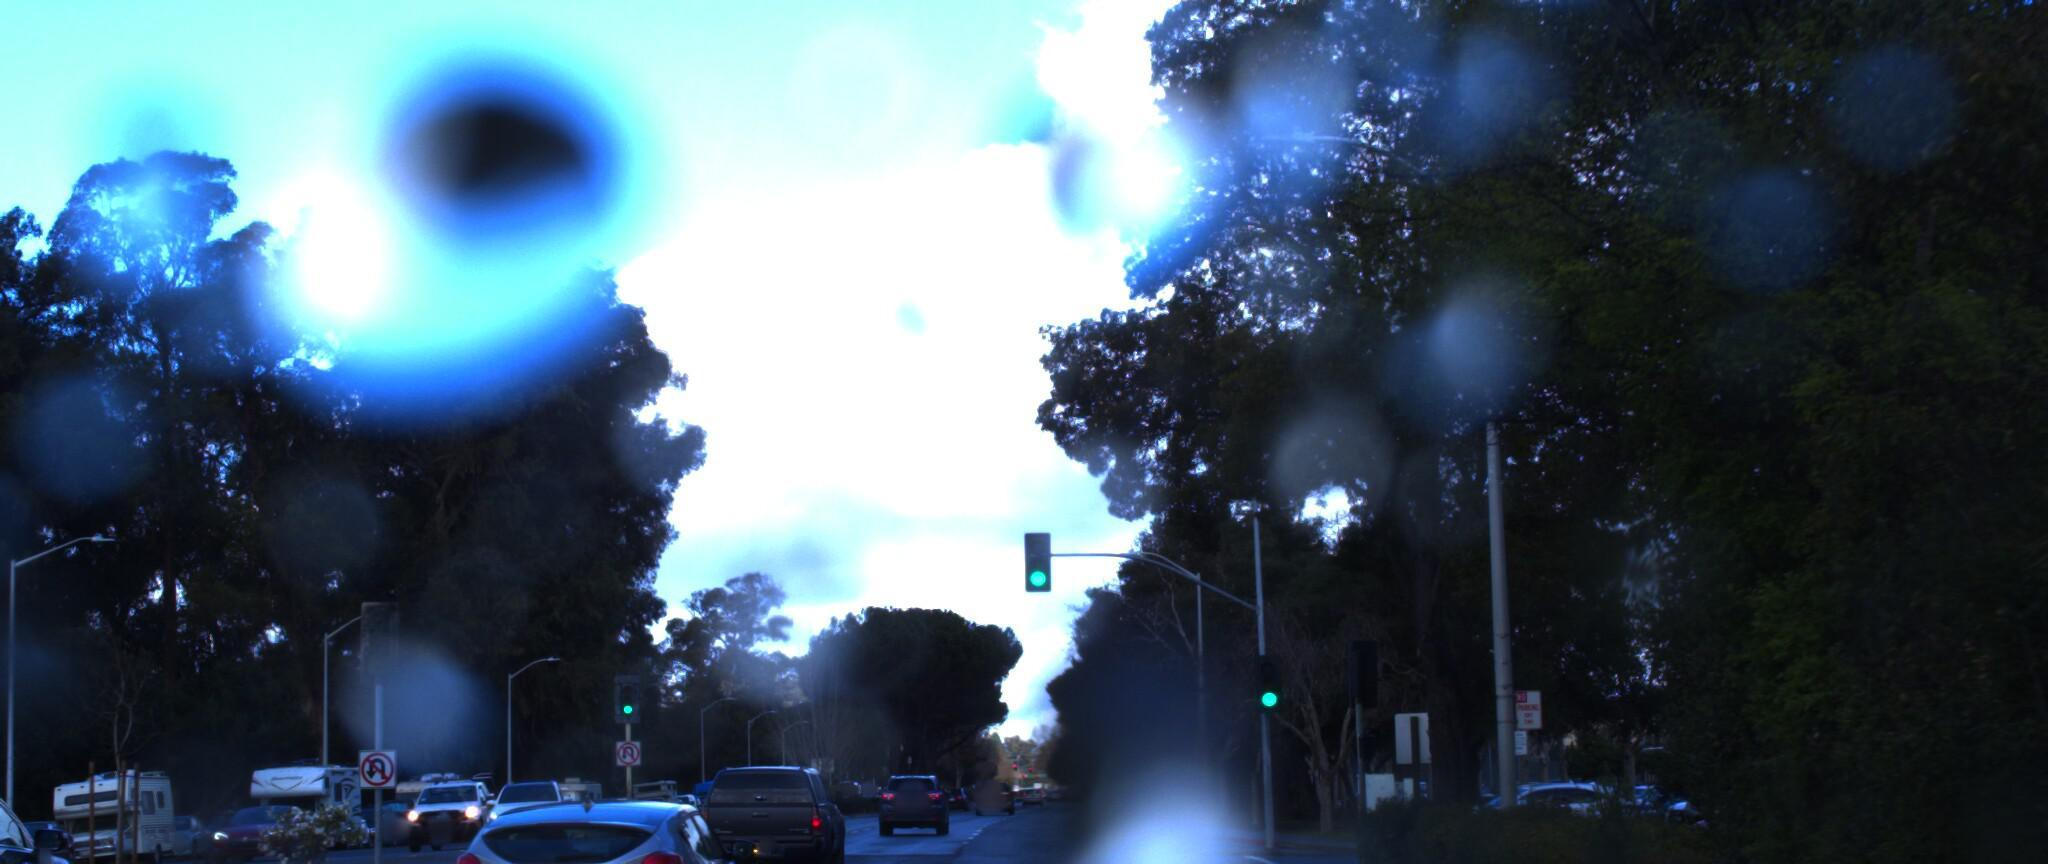car: (413, 786, 793, 864), (677, 745, 841, 864), (0, 754, 123, 864), (398, 753, 515, 829), (495, 773, 579, 846)
